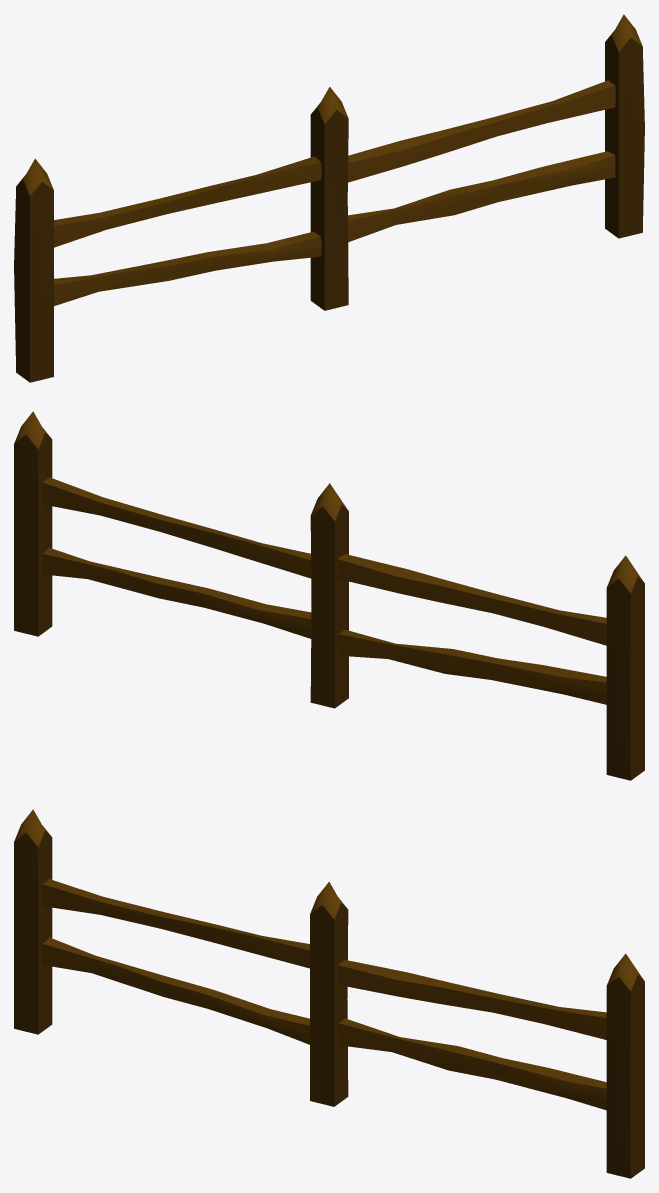
The model's file is Wood_Fence.fbx.
3 renders of one model, top to bottom at view 1: azimuth 30°, elevation 25°; view 2: azimuth 150°, elevation 25°; view 3: azimuth 330°, elevation 25°, orthographic.
Visible parts, largest first — view 1: polySurface151; view 2: polySurface151; view 3: polySurface151.
Part boxes in pixels (box(x1,y1,x2,y2)): polySurface151: box(14, 14, 644, 382); polySurface151: box(14, 411, 644, 780); polySurface151: box(14, 809, 644, 1178).
Bounding box in the file's own units: 29.21 × 9.83 × 1.34.
